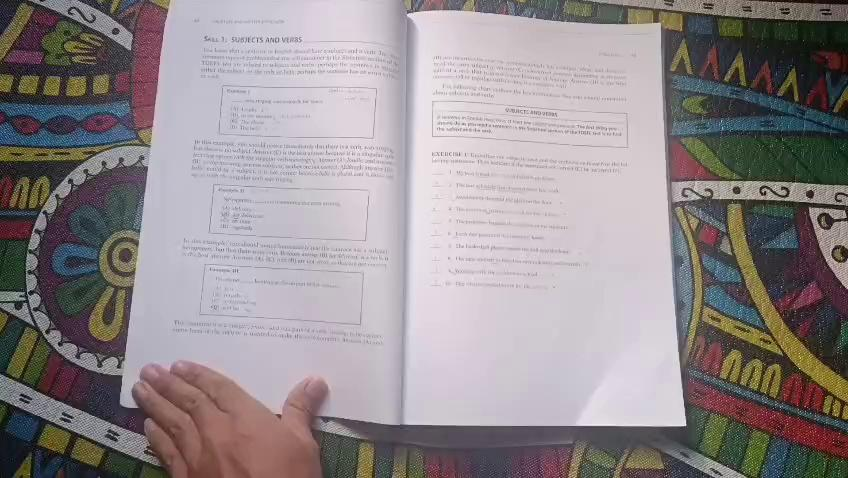Kertas: (406, 26, 658, 432)
